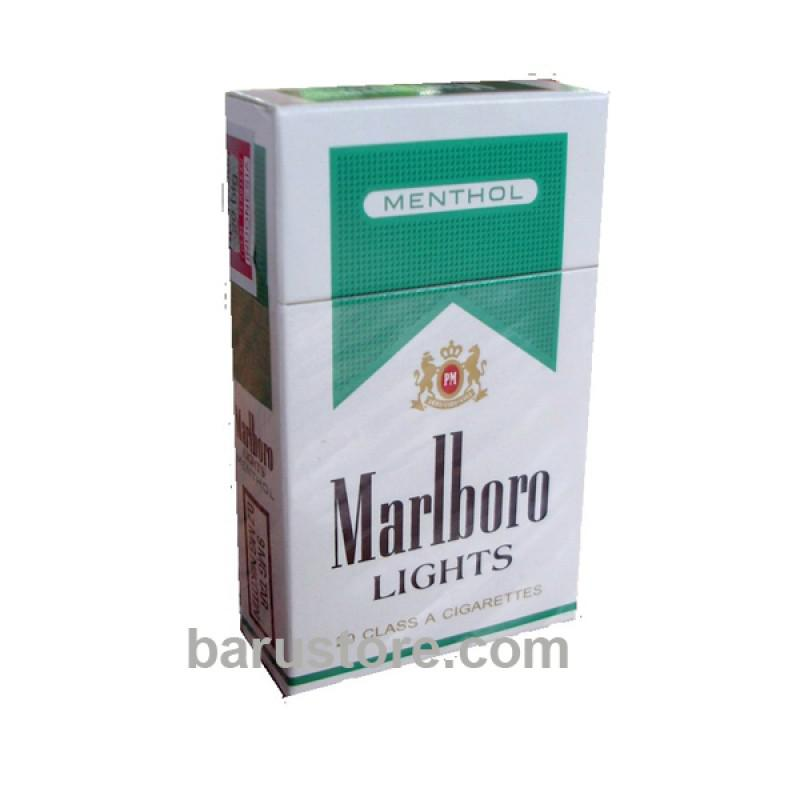marlboro_mentol: (279, 102, 579, 620)
